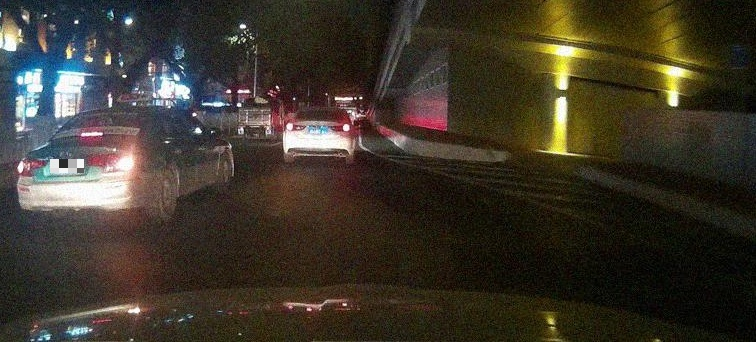L_light: (18, 158, 48, 176), (285, 120, 306, 131)
R_light: (89, 151, 135, 173), (329, 122, 352, 132)
T_light: (81, 131, 103, 137), (316, 110, 324, 113)
night-no: (282, 107, 353, 164)
night-right: (16, 105, 157, 227)
plate_1: (50, 159, 84, 173)
